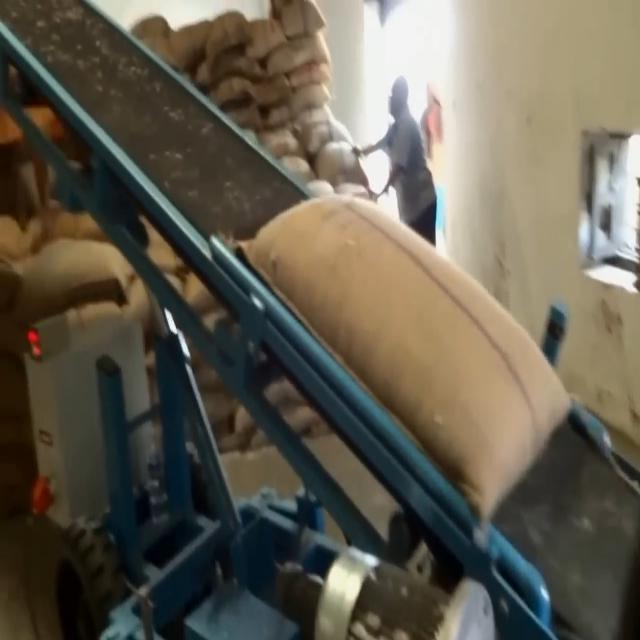gunny_bag: (237, 192, 578, 525)
